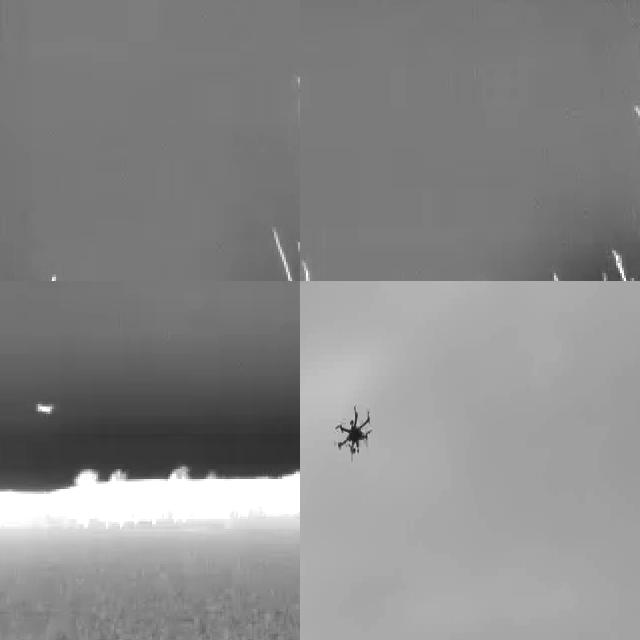1: (25, 397, 63, 429)
drone: (334, 400, 377, 460)
